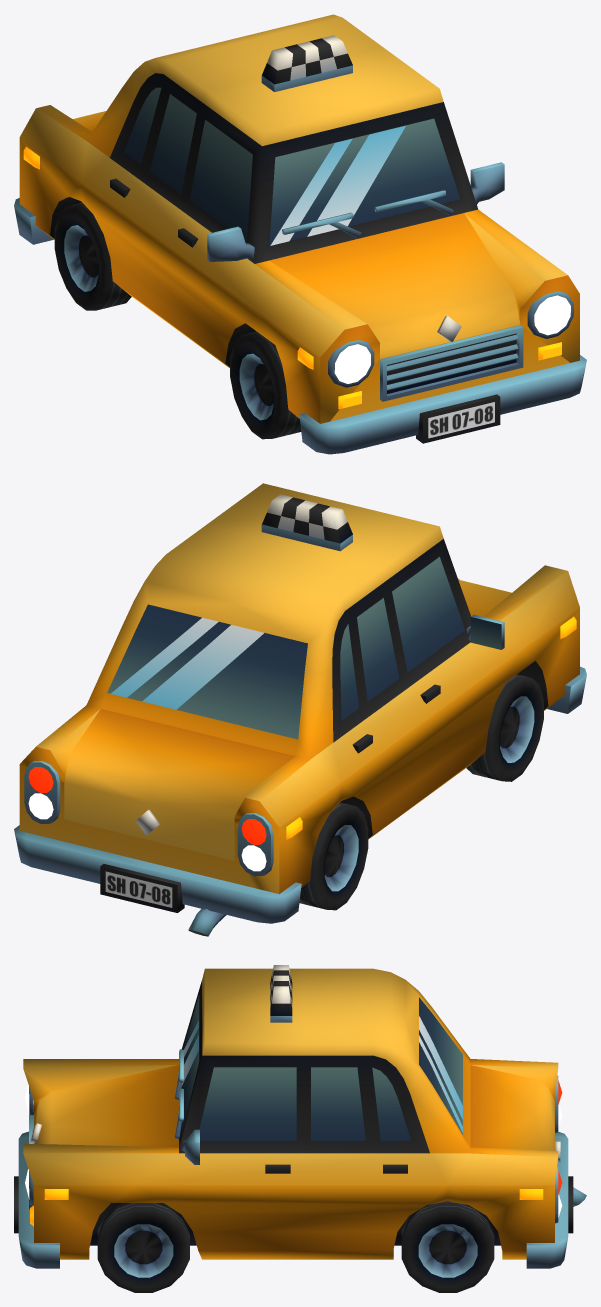
The model's file is Taxi.fbx.
3 views of the same model, one above another, from view 1: azimuth 30°, elevation 25°; view 2: azimuth 150°, elevation 25°; view 3: azimuth 270°, elevation 25° (orthographic). The views are drawn at different scales.
Visible parts, largest first — view 1: _gltfNode_228; view 2: _gltfNode_228; view 3: _gltfNode_228.
Boxes of the visible parts, x1,y1,x2,y2 form: _gltfNode_228: [14, 14, 586, 454]; _gltfNode_228: [14, 483, 586, 936]; _gltfNode_228: [14, 965, 586, 1292].
Size of the model in its own units: 2.26 by 2.2 by 4.4.
2 materials, 2 textured.
